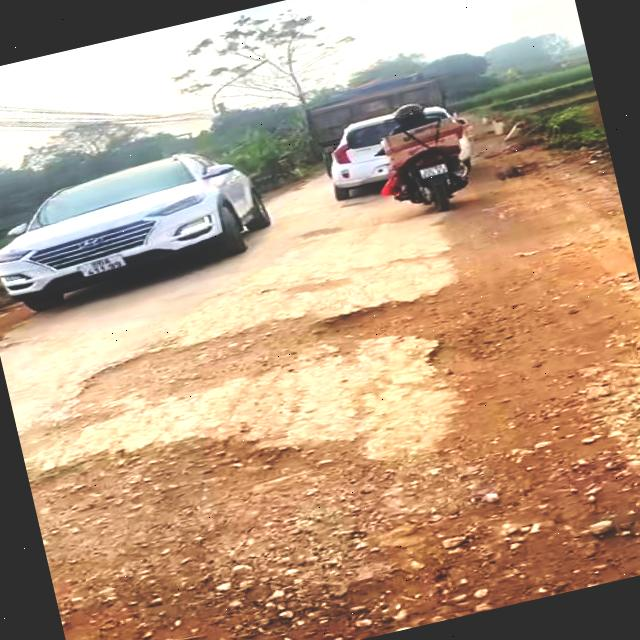pothole: (25, 323, 640, 640), (4, 261, 522, 474)
